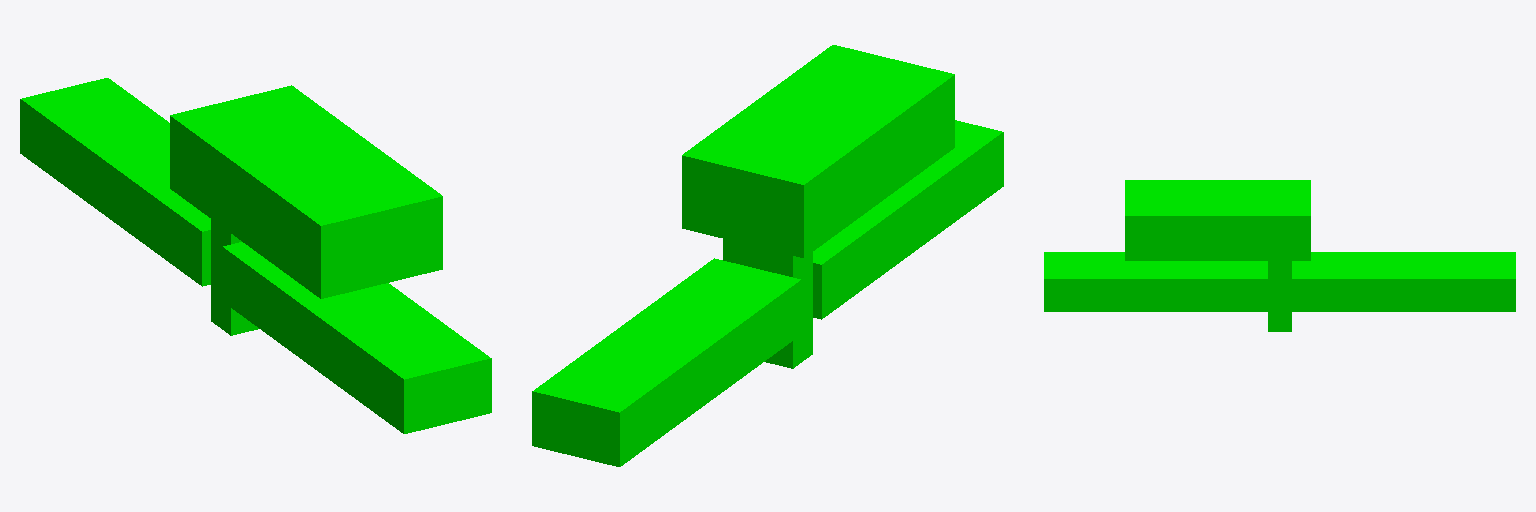
robot.urdf — robot:
<robot name = "robot">
    <link name="root">
        <inertial>
            <origin xyz="0.0 0.0 1.5" rpy="0 0 0"/>
            <mass value="1" />
            <inertia ixx="100" ixy="0" ixz="0" iyy="100" iyz="0" izz="100" />
        </inertial>
        <visual>
            <origin xyz="0.0 0.0 1.5" rpy="0 0 0"/>
            <geometry>
                <box size="0 0 0.0001" />
            </geometry>
            <material name="Green">
                <color rgba="0 1.0 0.0 1.0"/>
            </material>
        </visual>
        <collision>
            <origin xyz="0.0 0.0 1.5" rpy="0 0 0"/>
            <geometry>
                <box size="0 0 0.0001" />
            </geometry>
        </collision>
    </link>
    <joint name="root_000" type="revolute">
       <parent link="root"/>
       <child  link="000"/>
       <origin rpy="0 0 0" xyz="0.0 0.0 1.5" />
     <axis xyz="1 0 0"/>
       <limit effort="0.0" lower="-3.14159" upper="3.14159" velocity="0.0"/>
    </joint>
    <link name="000">
        <inertial>
            <origin xyz="0.0 0.25 0.0" rpy="0 0 0"/>
            <mass value="1" />
            <inertia ixx="100" ixy="0" ixz="0" iyy="100" iyz="0" izz="100" />
        </inertial>
        <visual>
            <origin xyz="0.0 0.25 0.0" rpy="0 0 0"/>
            <geometry>
                <box size="0.7 0.5 0.4" />
            </geometry>
            <material name="Green">
                <color rgba="0 1.0 0.0 1.0"/>
            </material>
        </visual>
        <collision>
            <origin xyz="0.0 0.25 0.0" rpy="0 0 0"/>
            <geometry>
                <box size="0.7 0.5 0.4" />
            </geometry>
        </collision>
    </link>
    <joint name="000_010" type="revolute">
       <parent link="000"/>
       <child  link="010"/>
       <origin rpy="0 0 0" xyz="0.0 0.5 -0.0" />
     <axis xyz="0 1 0"/>
       <limit effort="0.0" lower="-3.14159" upper="3.14159" velocity="0.0"/>
    </joint>
    <link name="010">
        <inertial>
            <origin xyz="0.0 0.25 -0.0" rpy="0 0 0"/>
            <mass value="1" />
            <inertia ixx="100" ixy="0" ixz="0" iyy="100" iyz="0" izz="100" />
        </inertial>
        <visual>
            <origin xyz="0.0 0.25 -0.0" rpy="0 0 0"/>
            <geometry>
                <box size="0.7 0.5 0.4" />
            </geometry>
            <material name="Green">
                <color rgba="0 1.0 0.0 1.0"/>
            </material>
        </visual>
        <collision>
            <origin xyz="0.0 0.25 -0.0" rpy="0 0 0"/>
            <geometry>
                <box size="0.7 0.5 0.4" />
            </geometry>
        </collision>
    </link>
    <joint name="010_020" type="revolute">
       <parent link="010"/>
       <child  link="020"/>
       <origin rpy="0 0 0" xyz="0.0 0.5 -0.0" />
     <axis xyz="0 1 0"/>
       <limit effort="0.0" lower="-3.14159" upper="3.14159" velocity="0.0"/>
    </joint>
    <link name="020">
        <inertial>
            <origin xyz="0.0 0.25 -0.0" rpy="0 0 0"/>
            <mass value="1" />
            <inertia ixx="100" ixy="0" ixz="0" iyy="100" iyz="0" izz="100" />
        </inertial>
        <visual>
            <origin xyz="0.0 0.25 -0.0" rpy="0 0 0"/>
            <geometry>
                <box size="0.7 0.5 0.4" />
            </geometry>
            <material name="Green">
                <color rgba="0 1.0 0.0 1.0"/>
            </material>
        </visual>
        <collision>
            <origin xyz="0.0 0.25 -0.0" rpy="0 0 0"/>
            <geometry>
                <box size="0.7 0.5 0.4" />
            </geometry>
        </collision>
    </link>
    <joint name="020_020-100" type="revolute">
       <parent link="020"/>
       <child  link="020-100"/>
       <origin rpy="0 0 0" xyz="0.0 0.25 -0.2" />
     <axis xyz="0 0 1"/>
       <limit effort="0.0" lower="-3.14159" upper="3.14159" velocity="0.0"/>
    </joint>
    <link name="020-100">
        <inertial>
            <origin xyz="0.0 0.0 -0.35" rpy="0 0 0"/>
            <mass value="1" />
            <inertia ixx="100" ixy="0" ixz="0" iyy="100" iyz="0" izz="100" />
        </inertial>
        <visual>
            <origin xyz="0.0 0.0 -0.35" rpy="0 0 0"/>
            <geometry>
                <box size="0.4 0.2 0.7" />
            </geometry>
            <material name="Green">
                <color rgba="0 1.0 0.0 1.0"/>
            </material>
        </visual>
        <collision>
            <origin xyz="0.0 0.0 -0.35" rpy="0 0 0"/>
            <geometry>
                <box size="0.4 0.2 0.7" />
            </geometry>
        </collision>
    </link>
    <joint name="020-100_020-100-200" type="revolute">
       <parent link="020-100"/>
       <child  link="020-100-200"/>
       <origin rpy="0 0 0" xyz="0.0 0.1 -0.35" />
     <axis xyz="0 1 0"/>
       <limit effort="0.0" lower="-3.14159" upper="3.14159" velocity="0.0"/>
    </joint>
    <link name="020-100-200">
        <inertial>
            <origin xyz="0.0 0.3 -0.0" rpy="0 0 0"/>
            <mass value="1" />
            <inertia ixx="100" ixy="0" ixz="0" iyy="100" iyz="0" izz="100" />
        </inertial>
        <visual>
            <origin xyz="0.0 0.3 -0.0" rpy="0 0 0"/>
            <geometry>
                <box size="0.5 0.6 0.3" />
            </geometry>
            <material name="Green">
                <color rgba="0 1.0 0.0 1.0"/>
            </material>
        </visual>
        <collision>
            <origin xyz="0.0 0.3 -0.0" rpy="0 0 0"/>
            <geometry>
                <box size="0.5 0.6 0.3" />
            </geometry>
        </collision>
    </link>
    <joint name="020-100-200_020-100-210" type="revolute">
       <parent link="020-100-200"/>
       <child  link="020-100-210"/>
       <origin rpy="0 0 0" xyz="0.0 0.6 -0.0" />
     <axis xyz="0 1 0"/>
       <limit effort="0.0" lower="-3.14159" upper="3.14159" velocity="0.0"/>
    </joint>
    <link name="020-100-210">
        <inertial>
            <origin xyz="0.0 0.3 -0.0" rpy="0 0 0"/>
            <mass value="1" />
            <inertia ixx="100" ixy="0" ixz="0" iyy="100" iyz="0" izz="100" />
        </inertial>
        <visual>
            <origin xyz="0.0 0.3 -0.0" rpy="0 0 0"/>
            <geometry>
                <box size="0.5 0.6 0.3" />
            </geometry>
            <material name="Green">
                <color rgba="0 1.0 0.0 1.0"/>
            </material>
        </visual>
        <collision>
            <origin xyz="0.0 0.3 -0.0" rpy="0 0 0"/>
            <geometry>
                <box size="0.5 0.6 0.3" />
            </geometry>
        </collision>
    </link>
    <joint name="020-100-210_020-100-220" type="revolute">
       <parent link="020-100-210"/>
       <child  link="020-100-220"/>
       <origin rpy="0 0 0" xyz="0.0 0.6 -0.0" />
     <axis xyz="0 1 0"/>
       <limit effort="0.0" lower="-3.14159" upper="3.14159" velocity="0.0"/>
    </joint>
    <link name="020-100-220">
        <inertial>
            <origin xyz="0.0 0.3 -0.0" rpy="0 0 0"/>
            <mass value="1" />
            <inertia ixx="100" ixy="0" ixz="0" iyy="100" iyz="0" izz="100" />
        </inertial>
        <visual>
            <origin xyz="0.0 0.3 -0.0" rpy="0 0 0"/>
            <geometry>
                <box size="0.5 0.6 0.3" />
            </geometry>
            <material name="Green">
                <color rgba="0 1.0 0.0 1.0"/>
            </material>
        </visual>
        <collision>
            <origin xyz="0.0 0.3 -0.0" rpy="0 0 0"/>
            <geometry>
                <box size="0.5 0.6 0.3" />
            </geometry>
        </collision>
    </link>
    <joint name="020-100_020-100-201" type="revolute">
       <parent link="020-100"/>
       <child  link="020-100-201"/>
       <origin rpy="0 0 0" xyz="0.0 -0.1 -0.35" />
     <axis xyz="0 1 0"/>
       <limit effort="0.0" lower="-3.14159" upper="3.14159" velocity="0.0"/>
    </joint>
    <link name="020-100-201">
        <inertial>
            <origin xyz="0.0 -0.3 -0.0" rpy="0 0 0"/>
            <mass value="1" />
            <inertia ixx="100" ixy="0" ixz="0" iyy="100" iyz="0" izz="100" />
        </inertial>
        <visual>
            <origin xyz="0.0 -0.3 -0.0" rpy="0 0 0"/>
            <geometry>
                <box size="0.5 0.6 0.3" />
            </geometry>
            <material name="Green">
                <color rgba="0 1.0 0.0 1.0"/>
            </material>
        </visual>
        <collision>
            <origin xyz="0.0 -0.3 -0.0" rpy="0 0 0"/>
            <geometry>
                <box size="0.5 0.6 0.3" />
            </geometry>
        </collision>
    </link>
    <joint name="020-100-201_020-100-211" type="revolute">
       <parent link="020-100-201"/>
       <child  link="020-100-211"/>
       <origin rpy="0 0 0" xyz="0.0 -0.6 -0.0" />
     <axis xyz="0 1 0"/>
       <limit effort="0.0" lower="-3.14159" upper="3.14159" velocity="0.0"/>
    </joint>
    <link name="020-100-211">
        <inertial>
            <origin xyz="0.0 -0.3 -0.0" rpy="0 0 0"/>
            <mass value="1" />
            <inertia ixx="100" ixy="0" ixz="0" iyy="100" iyz="0" izz="100" />
        </inertial>
        <visual>
            <origin xyz="0.0 -0.3 -0.0" rpy="0 0 0"/>
            <geometry>
                <box size="0.5 0.6 0.3" />
            </geometry>
            <material name="Green">
                <color rgba="0 1.0 0.0 1.0"/>
            </material>
        </visual>
        <collision>
            <origin xyz="0.0 -0.3 -0.0" rpy="0 0 0"/>
            <geometry>
                <box size="0.5 0.6 0.3" />
            </geometry>
        </collision>
    </link>
    <joint name="020-100-211_020-100-221" type="revolute">
       <parent link="020-100-211"/>
       <child  link="020-100-221"/>
       <origin rpy="0 0 0" xyz="0.0 -0.6 -0.0" />
     <axis xyz="0 1 0"/>
       <limit effort="0.0" lower="-3.14159" upper="3.14159" velocity="0.0"/>
    </joint>
    <link name="020-100-221">
        <inertial>
            <origin xyz="0.0 -0.3 -0.0" rpy="0 0 0"/>
            <mass value="1" />
            <inertia ixx="100" ixy="0" ixz="0" iyy="100" iyz="0" izz="100" />
        </inertial>
        <visual>
            <origin xyz="0.0 -0.3 -0.0" rpy="0 0 0"/>
            <geometry>
                <box size="0.5 0.6 0.3" />
            </geometry>
            <material name="Green">
                <color rgba="0 1.0 0.0 1.0"/>
            </material>
        </visual>
        <collision>
            <origin xyz="0.0 -0.3 -0.0" rpy="0 0 0"/>
            <geometry>
                <box size="0.5 0.6 0.3" />
            </geometry>
        </collision>
    </link>
</robot>

--- Facts derived from the render (not from the file) ---
3 views of the same robot in one strip: view 1: azimuth 30°, elevation 25°; view 2: azimuth 150°, elevation 25°; view 3: azimuth 270°, elevation 25° (orthographic).
Model robot with 11 links and 10 joints (10 revolute), rooted at root, posed all joints at 0.
Links seen in each view (by area): view 1: [phone redacted] (×6), 000, 010, 020, 020-100; view 2: [phone redacted] (×6), 020, 010, 000, 020-100; view 3: [phone redacted] (×6), 000, 010, 020, 020-100.
Link boxes in pixels (x1,y1,x2,y2): [phone redacted] (×6): (20, 78, 491, 433); 000: (271, 159, 442, 298); 010: (220, 122, 391, 261); 020: (170, 85, 341, 224); 020-100: (211, 219, 258, 335); [phone redacted] (×6): (532, 120, 1003, 466); 020: (682, 118, 853, 257); 010: (733, 81, 904, 220); 000: (783, 45, 954, 183); 020-100: (723, 239, 812, 368); [phone redacted] (×6): (1044, 252, 1515, 311); 000: (1125, 180, 1186, 260); 010: (1187, 180, 1248, 260); 020: (1249, 180, 1310, 260); 020-100: (1268, 261, 1291, 331).
Bounding box of the posed robot: 0.7 × 3.8 × 1.1 m (x, y, z).
Geometry: primitives only (box / cylinder / sphere), no mesh files.
